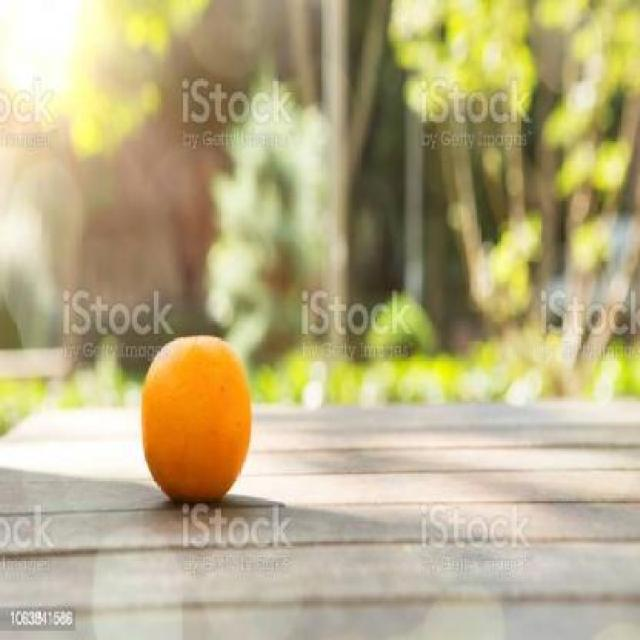Orange: (138, 332, 252, 503)
